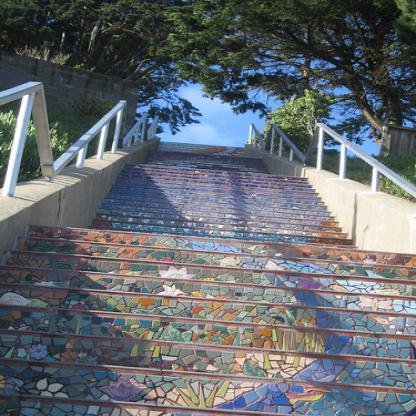stairs: (15, 237, 350, 416)
